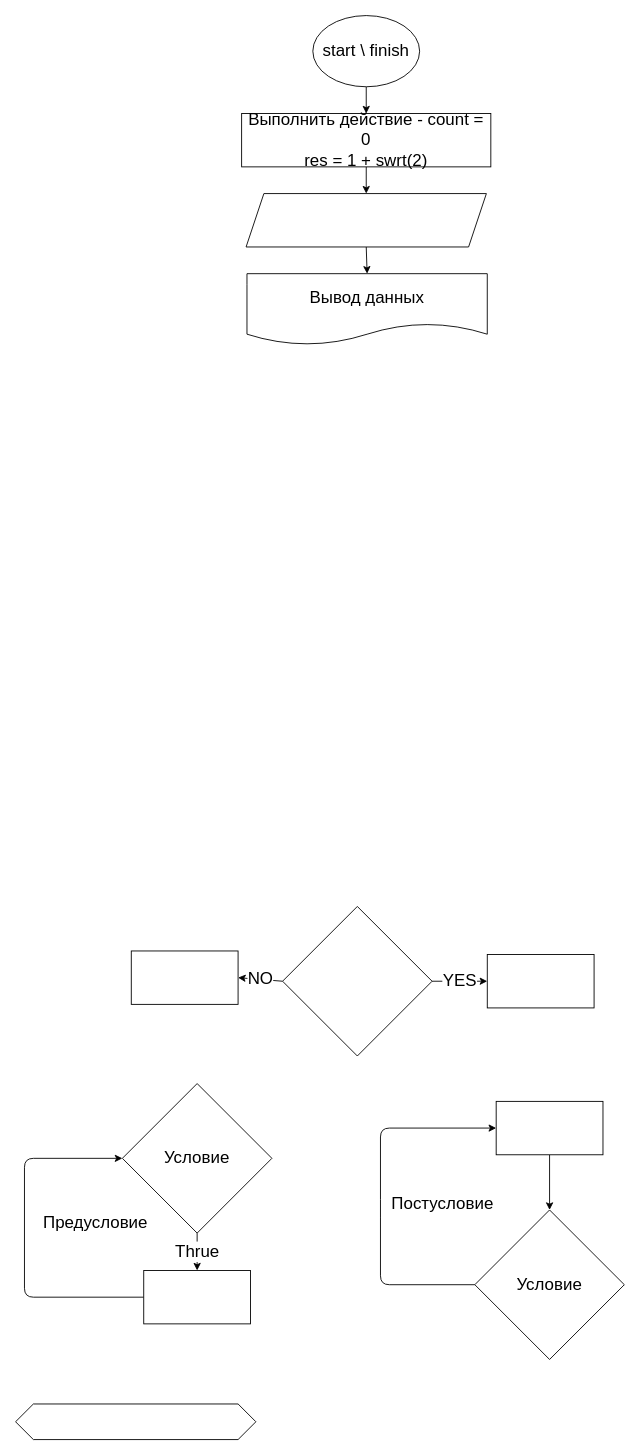
This 640x1455 diagram has some shape labels left out. The shapes that lost their labels are listed below. From the top down, each one's centre as x and y in pixels, then its label:
the point at 365,220: Ввод данных
the point at 357,981: Условный оператор ( IF \ else)
the point at 135,1421: count = от 1, до 10, шаг 1
